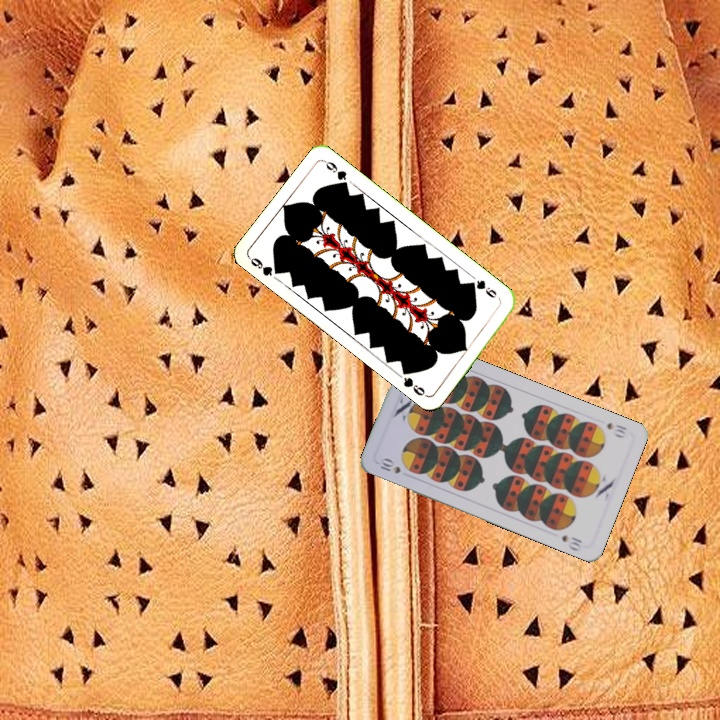G9: (245, 253, 284, 279), (466, 276, 499, 301)
S10: (603, 418, 630, 441), (376, 455, 404, 476)
